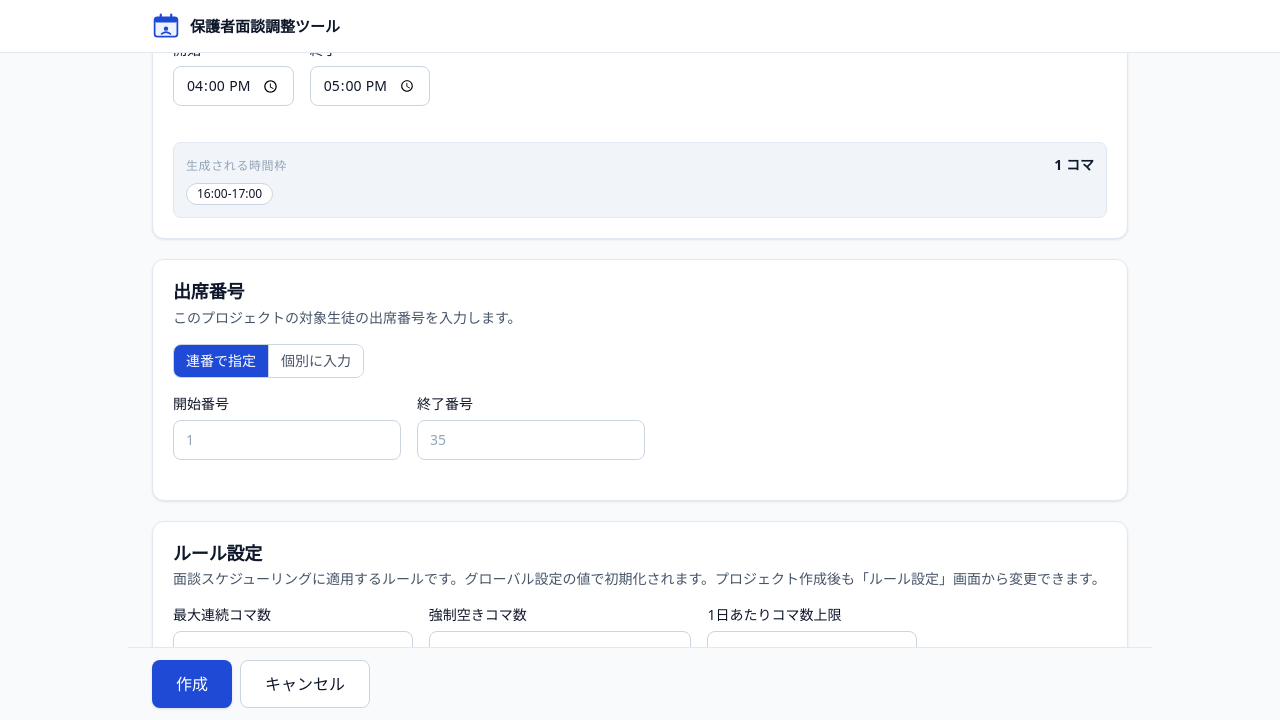
Scenario: ProjectNewPage › 「個別に入力」に切り替えるとカンマ区切りテキストで出席番号を指定できる
(page scrolled)
Click the button "個別に入力".
click(316, 361)  # box [268,345,363,377]
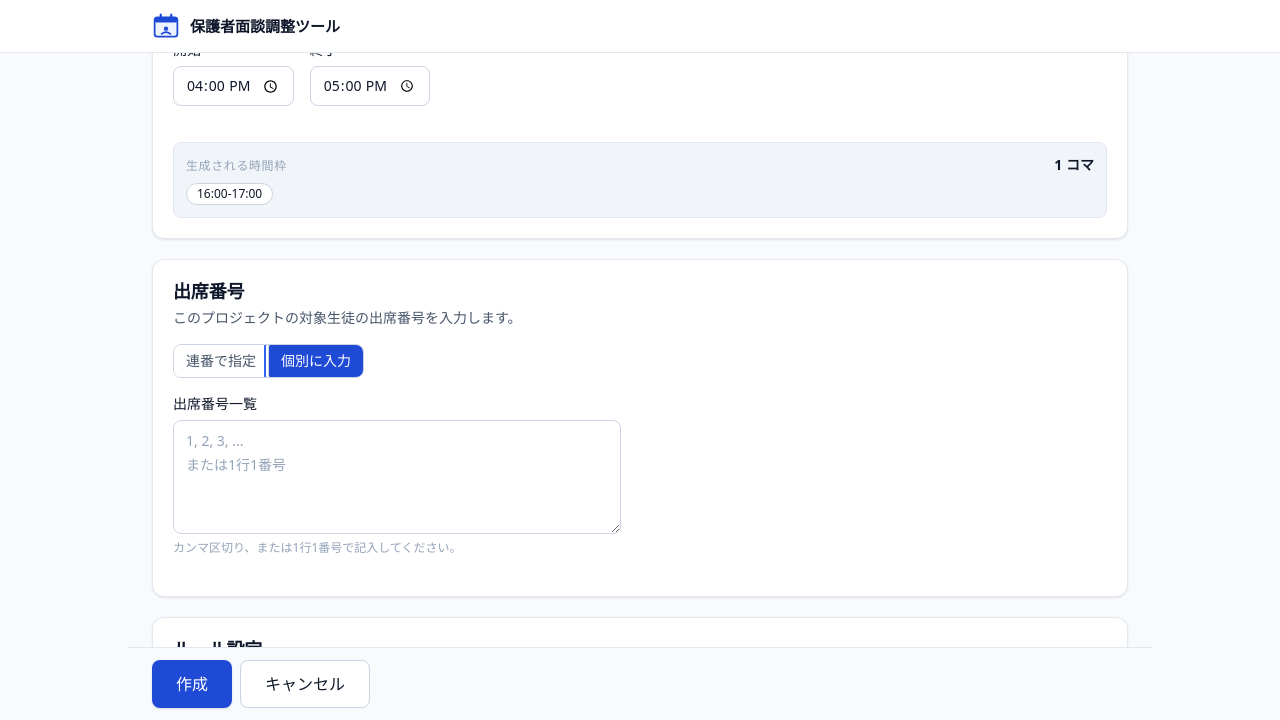
Type "1, 2, 3" into the text box labelled "出席番号一覧".
click(397, 477); type("1, 2, 3")  # box [173,420,621,534]
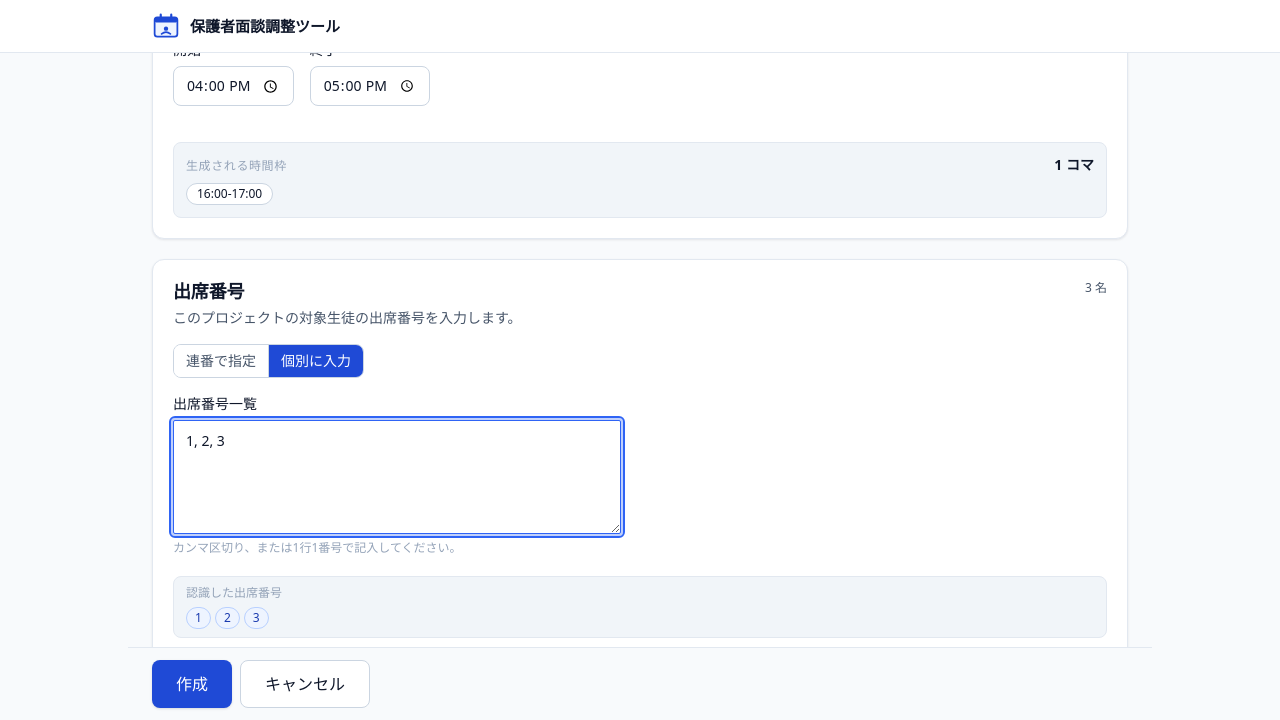
Check: the text "認識した出席番号" is shown, box [186,584,282,601]
